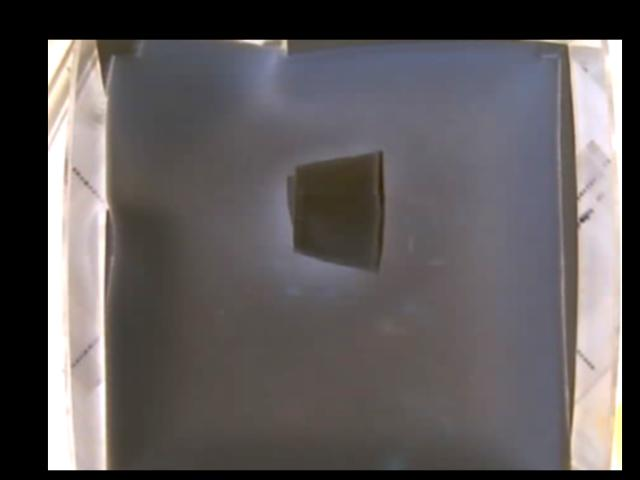Cup: (288, 147, 387, 272)
